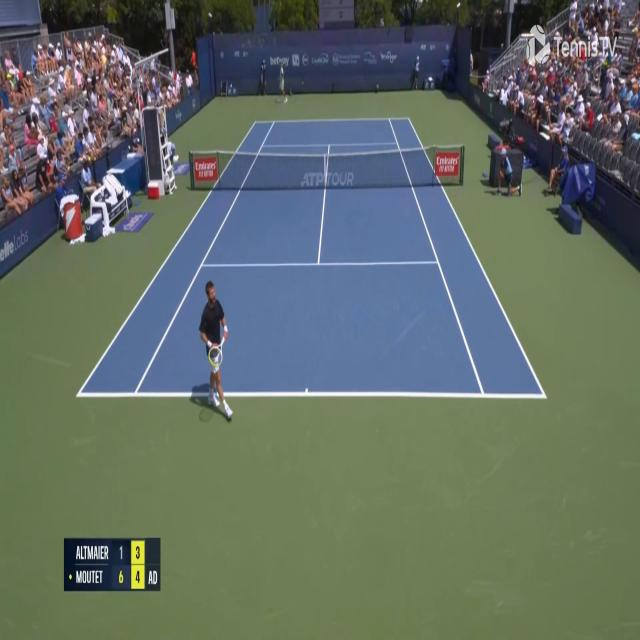tennis-player: (196, 275, 235, 426), (276, 62, 291, 106)
